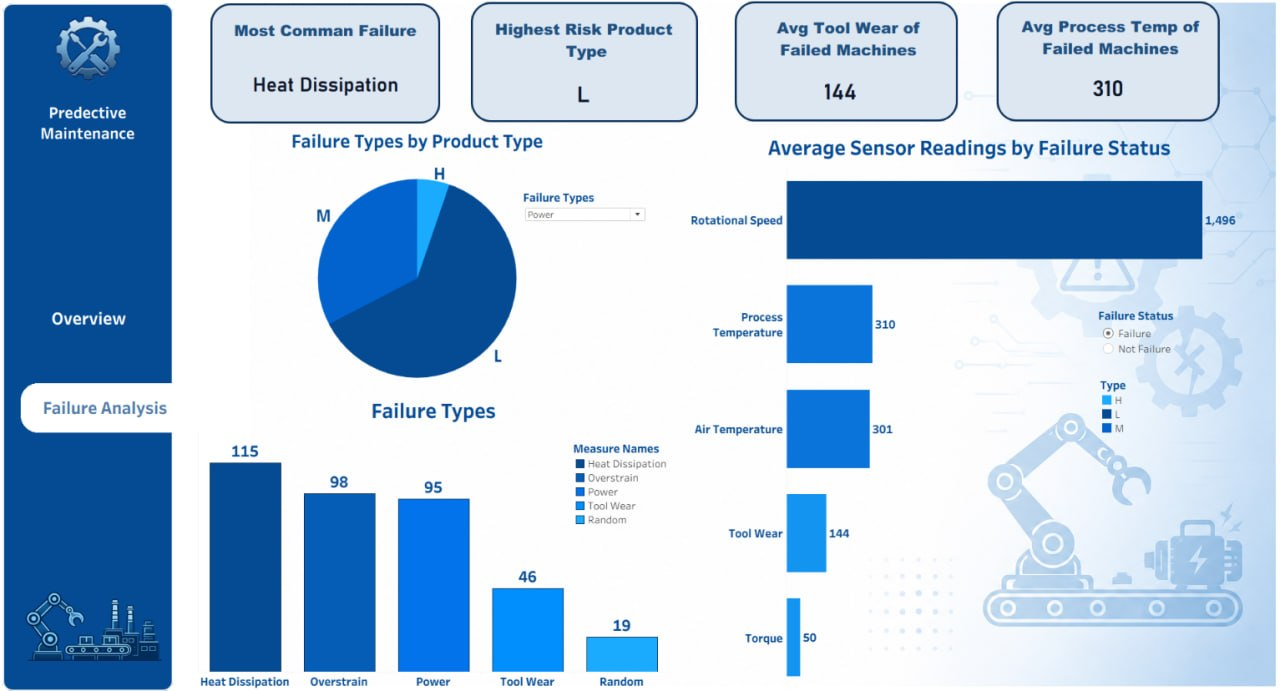

The dashboard page shown, as its layout file describes it:
{"tool":"tableau","page":{"name":"Failure Analysis Dashboard","canvas":[1000,1000],"units":"permille","ordinal":0},"visuals":[{"type":"text","box":[562.5,0,199.8,115.3]},{"type":"text","box":[356.1,2.2,199.8,115.3]},{"type":"image","param":"Image/Logo.png","box":[5.8,14.3,126.1,141.6]},{"type":"text","box":[188.9,82.3,131.6,84.5]},{"type":"text","box":[793,96.6,143.6,67]},{"type":"text","box":[584.2,102.1,143.6,67]},{"type":"text","box":[383.8,105.4,143.6,67]},{"type":"text","box":[6.9,115.3,125,125.1]},{"type":"worksheet","title":"Failure Types by Product Type","mark":"Pie","box":[146.2,182.2,359.6,389.7]},{"type":"worksheet","title":"Average Sensor Readings by Failure Status","mark":"Bar","box":[530.7,188.8,452.3,803.5]},{"type":"parameter","param":"[Parameters].[Parameter 1]","box":[408.9,274.4,96.9,60.4]},{"type":"dashboard-object","box":[16.9,423.7,106.5,71.4]},{"type":"parameter","param":"[Parameters].[Parameter 2]","box":[857.5,443.5,96.4,94.4]},{"type":"legend","title":"Failure Types by Product Type","param":"[federated.16gqypb1jf3p4e13n2jmn0khdx1f].[none:Type:nk]","box":[859.1,543.4,94.8,104.3]},{"type":"dashboard-object","box":[16.9,552.1,131.4,71.4]},{"type":"worksheet","title":"Failure Types","mark":"Bar","box":[155.2,566.4,367.6,425.9]},{"type":"legend","title":"Failure Types","param":"[federated.16gqypb1jf3p4e13n2jmn0khdx1f].[:Measure Names]","box":[448.1,634.5,99.6,150.4]}]}

Visuals, with their boxes on the dashboard's canvas, which has no fixed pixel size, in thousandths of its width and height (x1, y1, x2, y2). These are canvas units, not pixel positions in the 1280x691 screenshot, which may show the page scaled, cropped or inside an application window:
text: {"x1": 562, "y1": 0, "x2": 762, "y2": 115}
text: {"x1": 356, "y1": 2, "x2": 556, "y2": 118}
image: {"x1": 6, "y1": 14, "x2": 132, "y2": 156}
text: {"x1": 189, "y1": 82, "x2": 320, "y2": 167}
text: {"x1": 793, "y1": 97, "x2": 937, "y2": 164}
text: {"x1": 584, "y1": 102, "x2": 728, "y2": 169}
text: {"x1": 384, "y1": 105, "x2": 527, "y2": 172}
text: {"x1": 7, "y1": 115, "x2": 132, "y2": 240}
"Failure Types by Product Type" worksheet (Pie marks): {"x1": 146, "y1": 182, "x2": 506, "y2": 572}
"Average Sensor Readings by Failure Status" worksheet (Bar marks): {"x1": 531, "y1": 189, "x2": 983, "y2": 992}
parameter: {"x1": 409, "y1": 274, "x2": 506, "y2": 335}
dashboard-object: {"x1": 17, "y1": 424, "x2": 123, "y2": 495}
parameter: {"x1": 858, "y1": 444, "x2": 954, "y2": 538}
"Failure Types by Product Type" legend: {"x1": 859, "y1": 543, "x2": 954, "y2": 648}
dashboard-object: {"x1": 17, "y1": 552, "x2": 148, "y2": 624}
"Failure Types" worksheet (Bar marks): {"x1": 155, "y1": 566, "x2": 523, "y2": 992}
"Failure Types" legend: {"x1": 448, "y1": 634, "x2": 548, "y2": 785}
